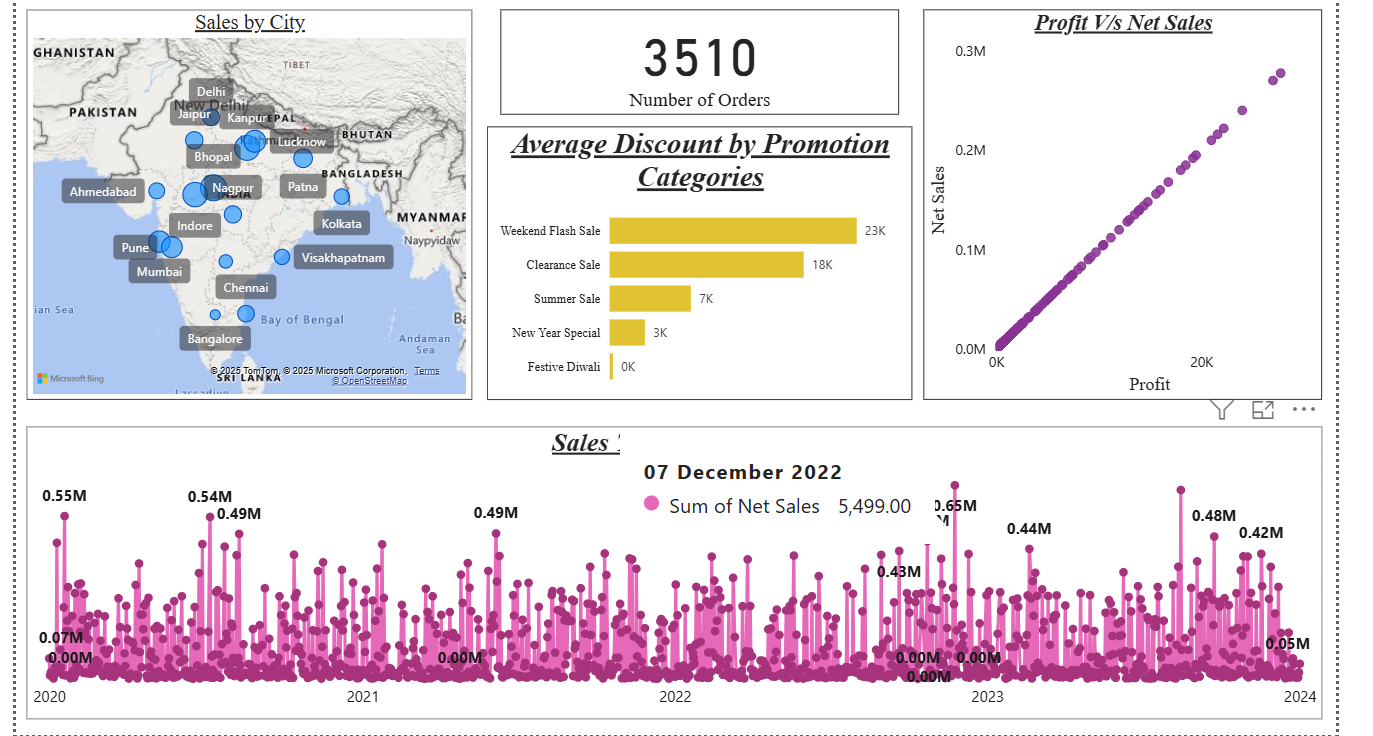

What the dashboard file says about the page in this screenshot:
{"tool":"powerbi","page":{"name":"Overview","canvas":[1280,720],"ordinal":0},"visuals":[{"type":"lineChart","title":"Sales Trends by Period ","fields":{"Y":["Sum(Fact Table.Net Sales  )"],"Category":["Fact Table.Date (dd/mm/yyyy).Variation.Date Hierarchy.Year"]},"box":[10,410,1258.3,295],"z":0},{"type":"scatterChart","title":"Profit V/s Net Sales  ","fields":{"X":["Fact Table.Profit"],"Y":["Fact Table.Net Sales  "]},"box":[880.9,16.2,387,378.9],"z":1000},{"type":"barChart","title":"Average Discount by Promotion Categories","fields":{"Y":["Avg(Fact Table.Discount )"],"Category":["Dim Promotion.Promotion Name"]},"box":[456.6,129.5,412.9,265.6],"z":2000},{"type":"map","title":"Sales by City","fields":{"Category":["Dim Customers.City"],"Size":["Sum(Fact Table.Net Sales  )"]},"box":[9.7,16.2,432.3,378.9],"z":3000},{"type":"card","fields":{"Values":["Count(Fact Table.Order ID)"]},"box":[469.6,16.2,387,102],"z":4000}]}

Visuals, with their boxes on the page's 1280x720 design canvas (x1, y1, x2, y2). These are canvas units, not pixel positions in the 1373x736 screenshot, which may show the page scaled, cropped or inside an application window:
"Sales Trends by Period " lineChart: bbox=[10, 410, 1268, 705]
"Profit V/s Net Sales  " scatterChart: bbox=[881, 16, 1268, 395]
"Average Discount by Promotion Categories" barChart: bbox=[457, 130, 870, 395]
"Sales by City" map: bbox=[10, 16, 442, 395]
card - Count(Fact Table.Order ID): bbox=[470, 16, 857, 118]
